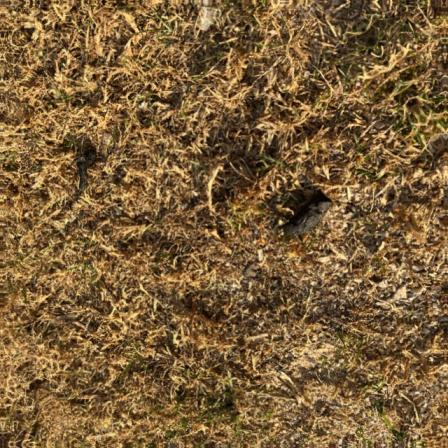dog-poop: (280, 186, 331, 242), (74, 144, 102, 190)
